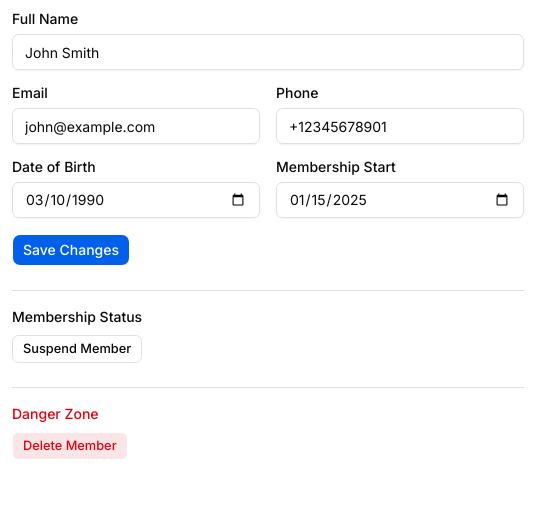
EditMemberForm › editMemberForm_updateFails_showsServerErrorAndDoesNotRefresh
This screenshot has width=541, height=530.
Click the button "Save Changes".
click(71, 250)  # box [12,234,130,266]
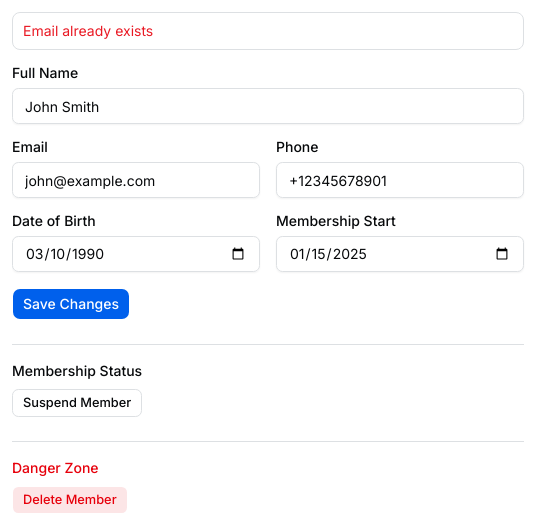
expect the button "Save Changes" is enabled: met, box [12,288,130,320]
expect the text "Email already exists" is shown: met, box [23,22,153,39]
